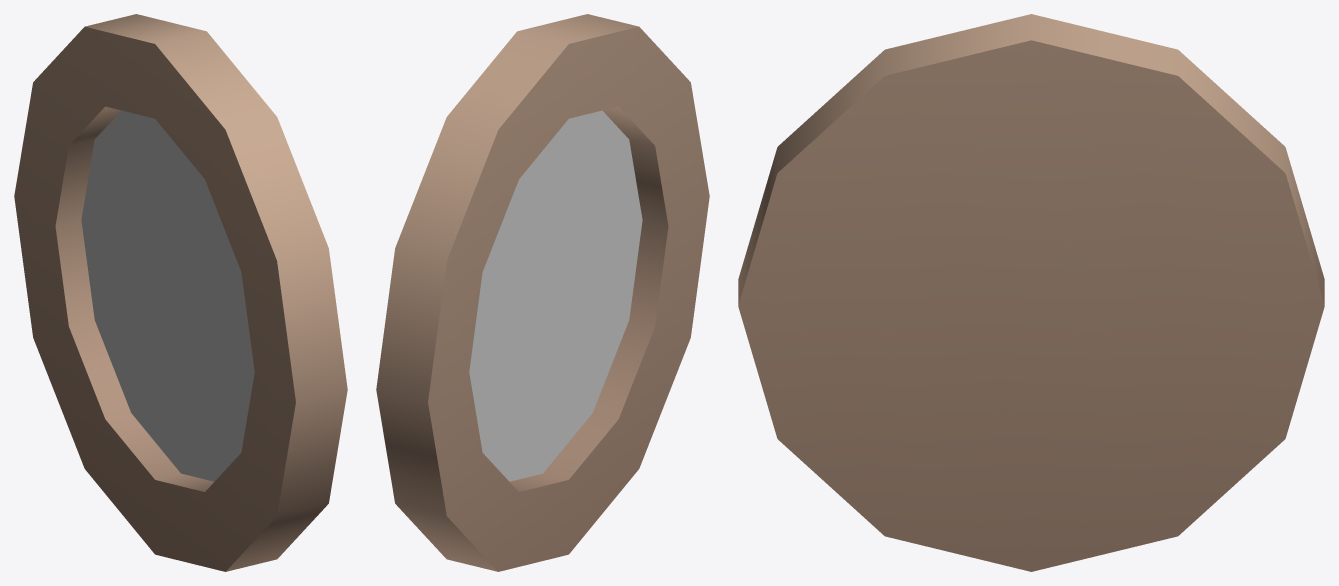
Rendered from art-frame-thick-round (%wall).glb.
The picture shows the model from 3 angles, left to right: view 1: azimuth 30°, elevation 25°; view 2: azimuth 150°, elevation 25°; view 3: azimuth 270°, elevation 25°; orthographic projection. The views are drawn at different scales.
Parts seen in each view (by area): view 1: art-frame-thick-round (%wall); view 2: art-frame-thick-round (%wall); view 3: art-frame-thick-round (%wall).
Boxes of the visible parts, box(x1,y1,x2,y2) form: art-frame-thick-round (%wall): box(14, 14, 347, 571); art-frame-thick-round (%wall): box(376, 14, 709, 571); art-frame-thick-round (%wall): box(738, 14, 1324, 571).
Bounding box in the file's own units: 0.075 × 0.7071 × 0.7071.
